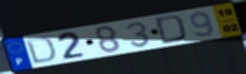2: (56, 30, 91, 62)
3: (123, 20, 153, 48)
8: (95, 25, 122, 55)
9: (188, 10, 216, 38)
D: (154, 14, 189, 46), (24, 36, 57, 66)
